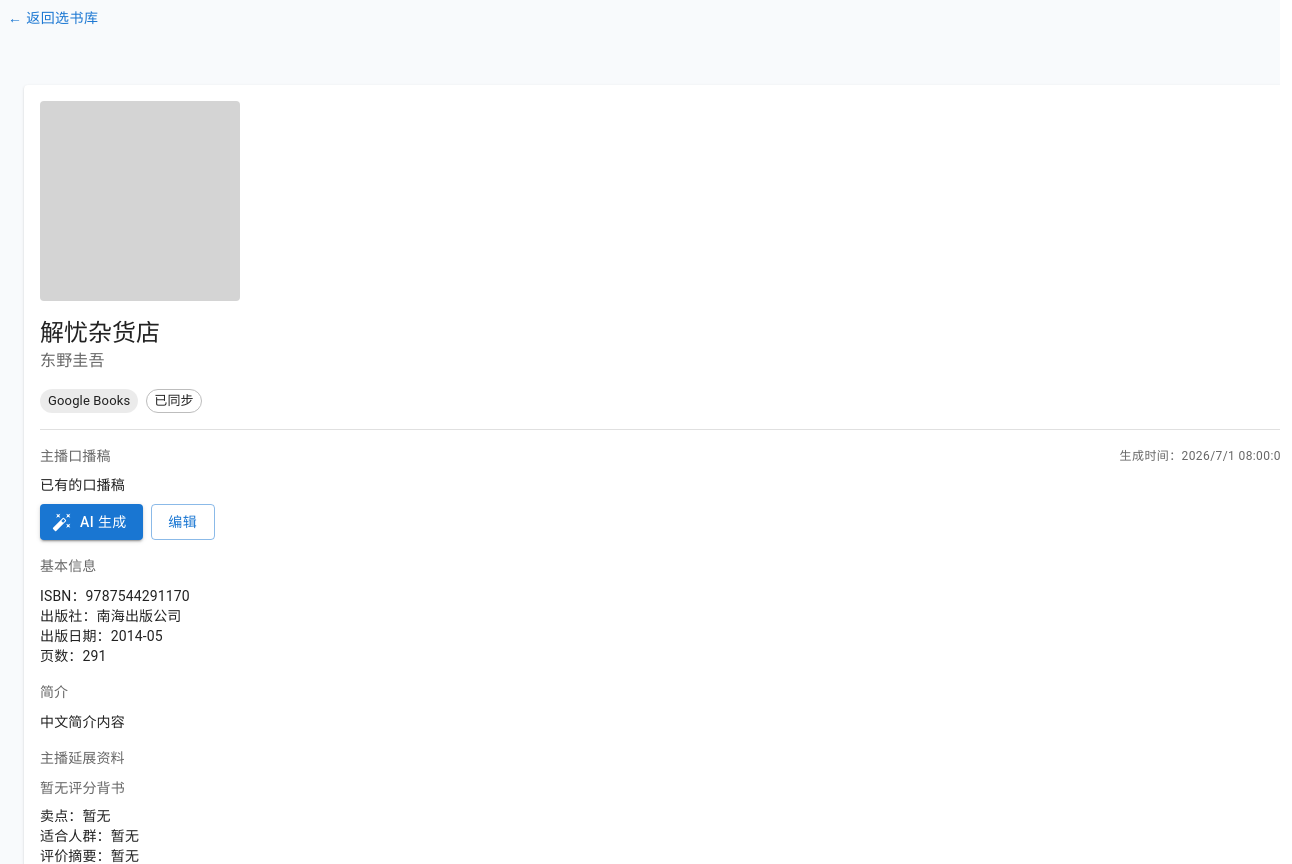
BookDetail › saves live pitch on button click
The image size is (1292, 864).
Check: the text "已有的口播稿" is shown, box [40,478,125,494]
Click the button "编辑".
click(183, 522)  # box [151,504,215,540]
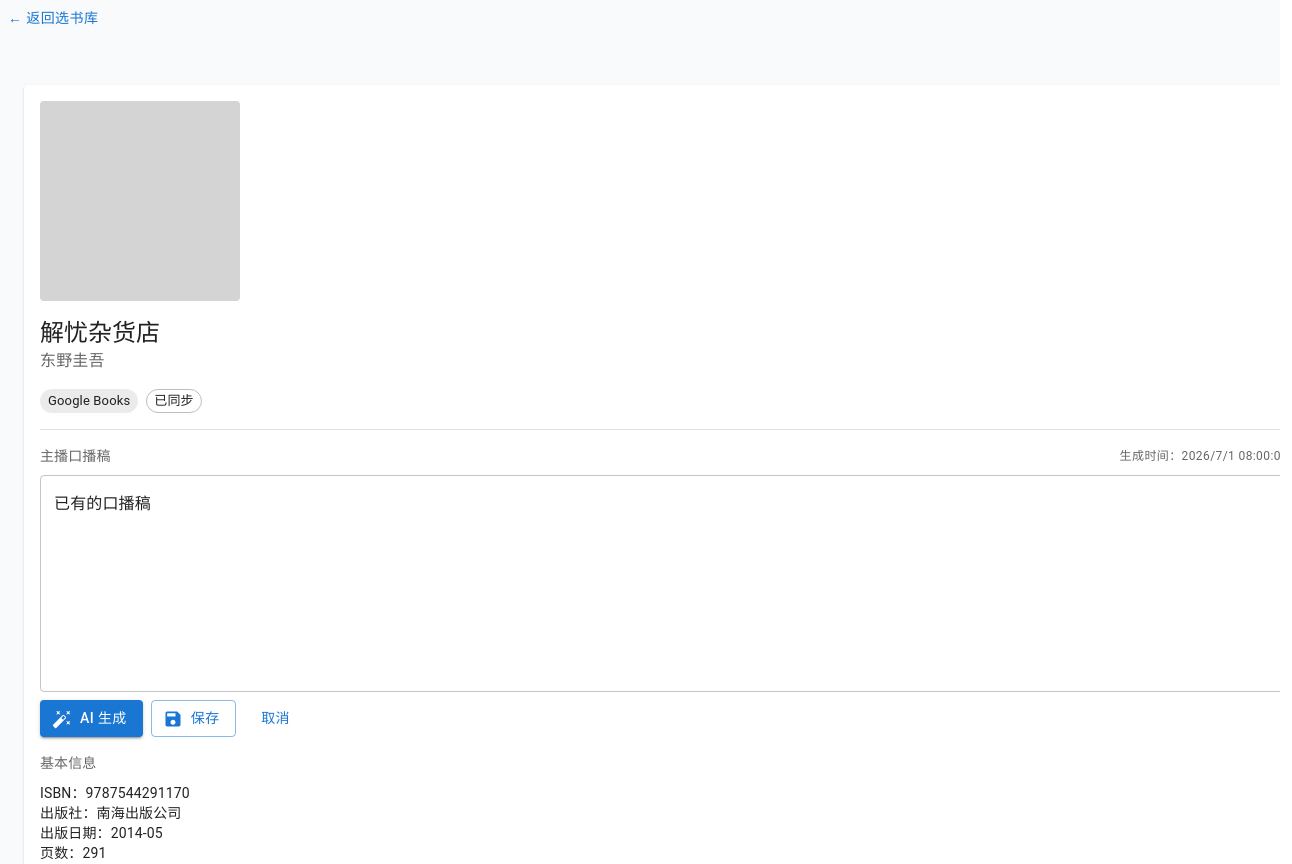
Replace the text in the text box showing "已有的口播稿" with "编辑后的口播稿" at (664, 584), box [54,492,1274,676]
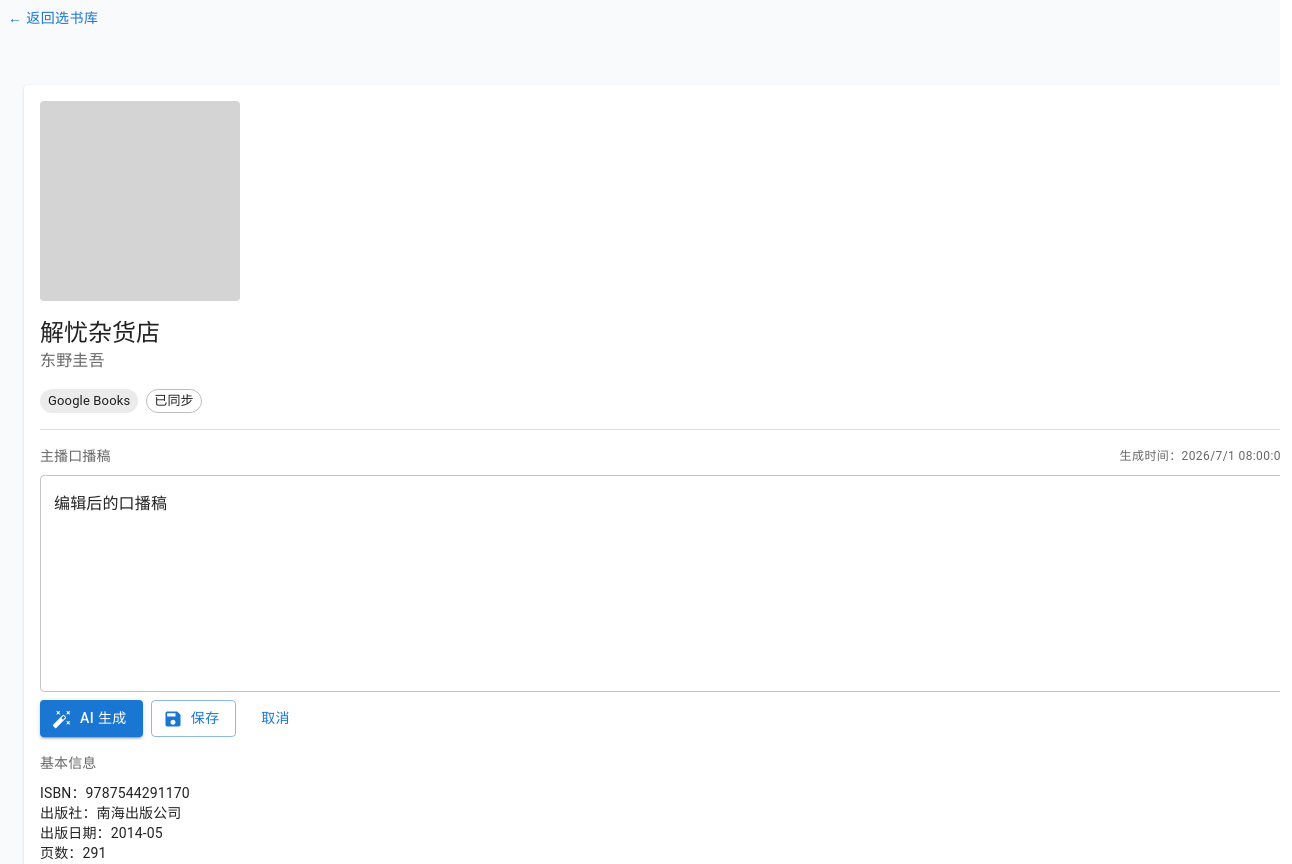
Click the button "保存".
click(193, 719)  # box [151,700,236,737]
(page scrolled)
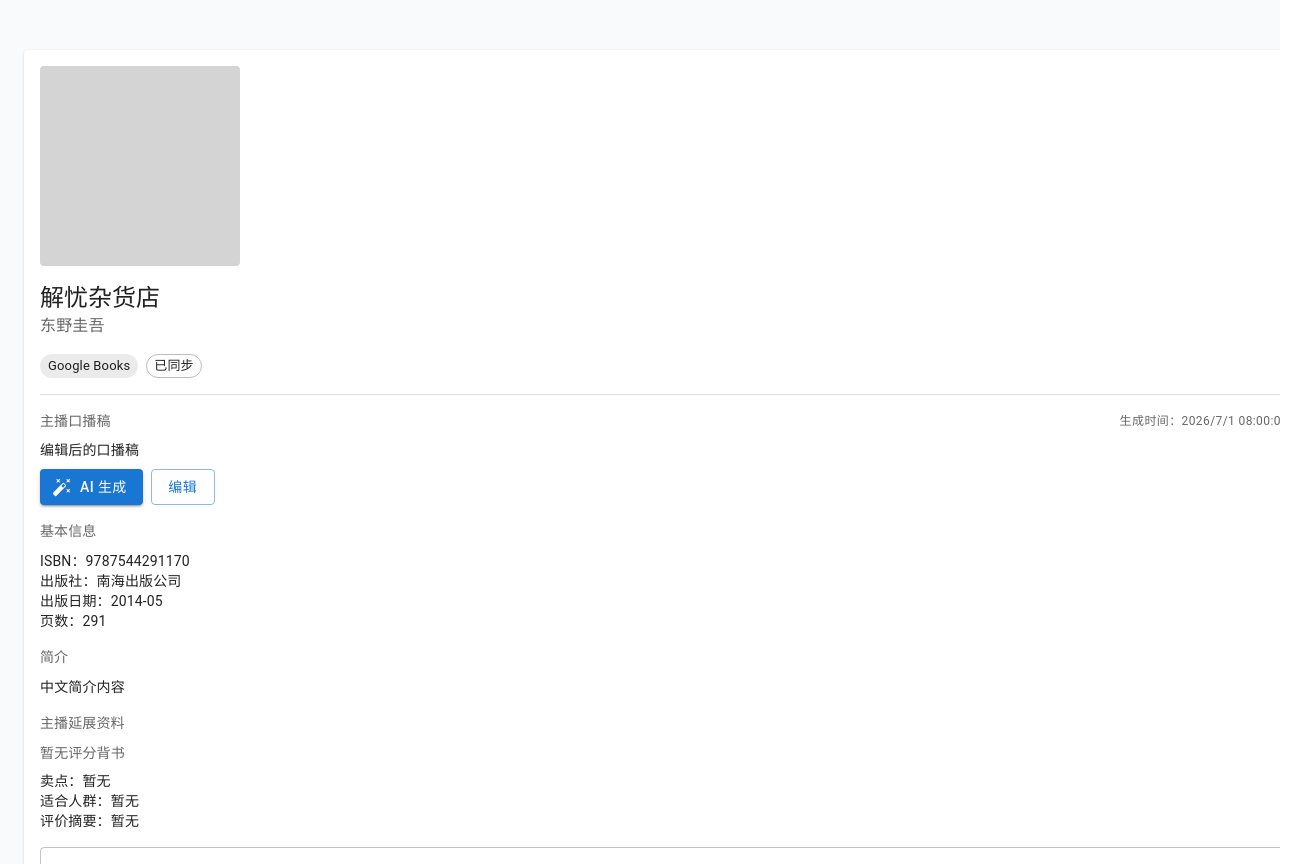
Check: the field labelled "主播口播稿编辑框" is gone
Check: the text "编辑后的口播稿" is shown, box [40,442,139,458]
